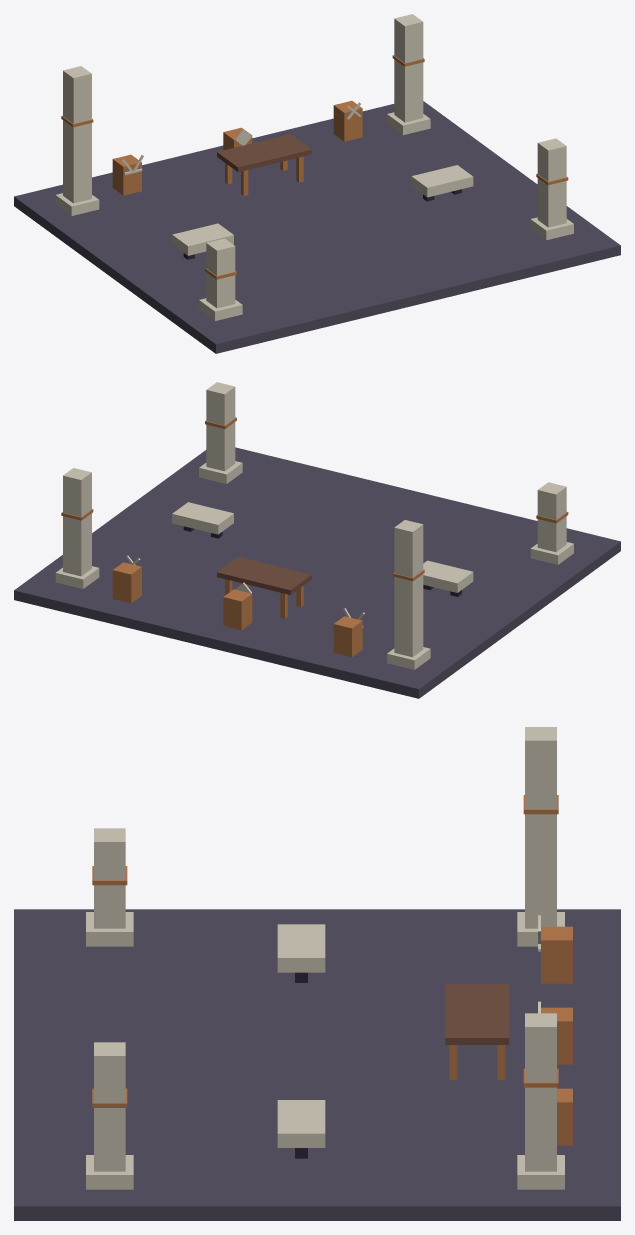
File: witness_court.glb
3 renders of one model, top to bottom at view 1: azimuth 30°, elevation 25°; view 2: azimuth 150°, elevation 25°; view 3: azimuth 270°, elevation 25°, orthographic. The views are drawn at different scales.
Parts seen in each view (by area): view 1: witness_court; view 2: witness_court; view 3: witness_court.
Part boxes in pixels (x1,y1,x2,y2): witness_court: [14, 14, 620, 353]; witness_court: [14, 382, 620, 698]; witness_court: [14, 727, 620, 1220].
Size of the model in its own units: 44 by 15 by 38.
